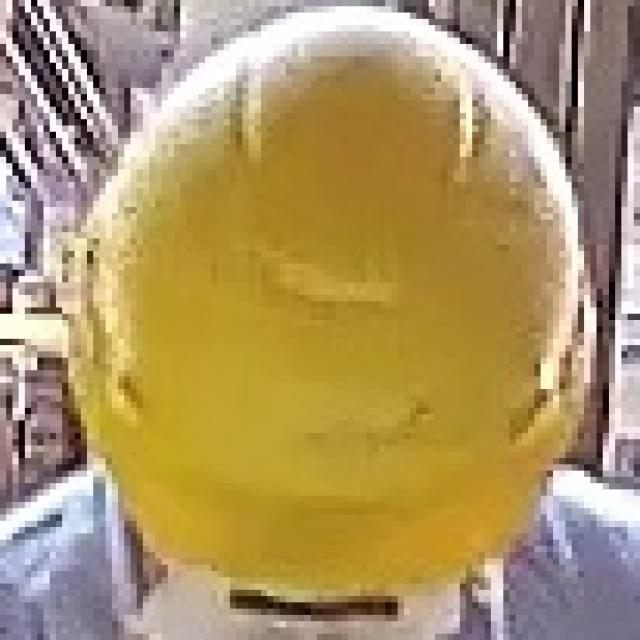yellow helmet: (73, 8, 596, 596)
